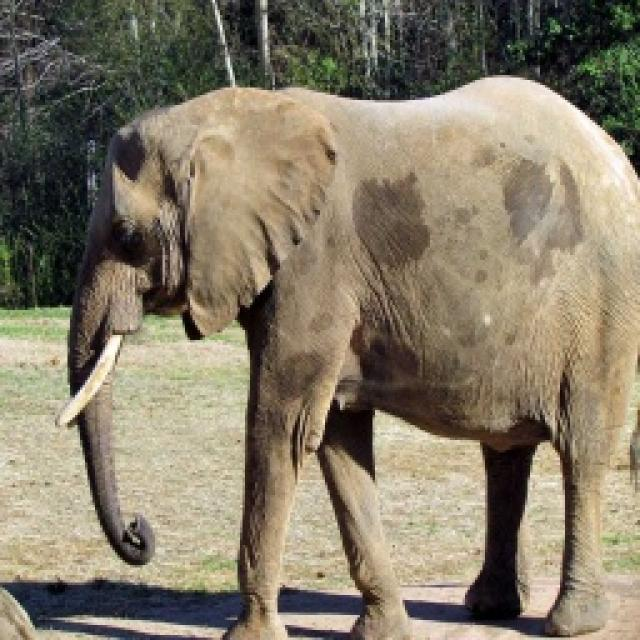not_pig: (52, 72, 638, 638)
